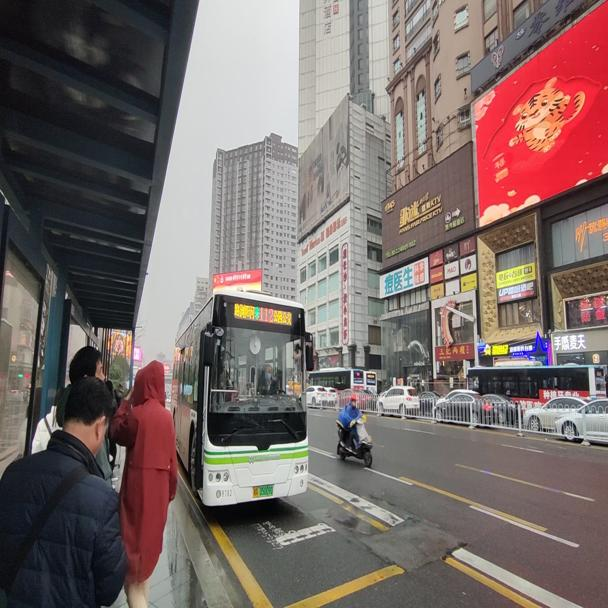bus: (167, 287, 314, 512)
screen: (258, 305, 273, 324)
